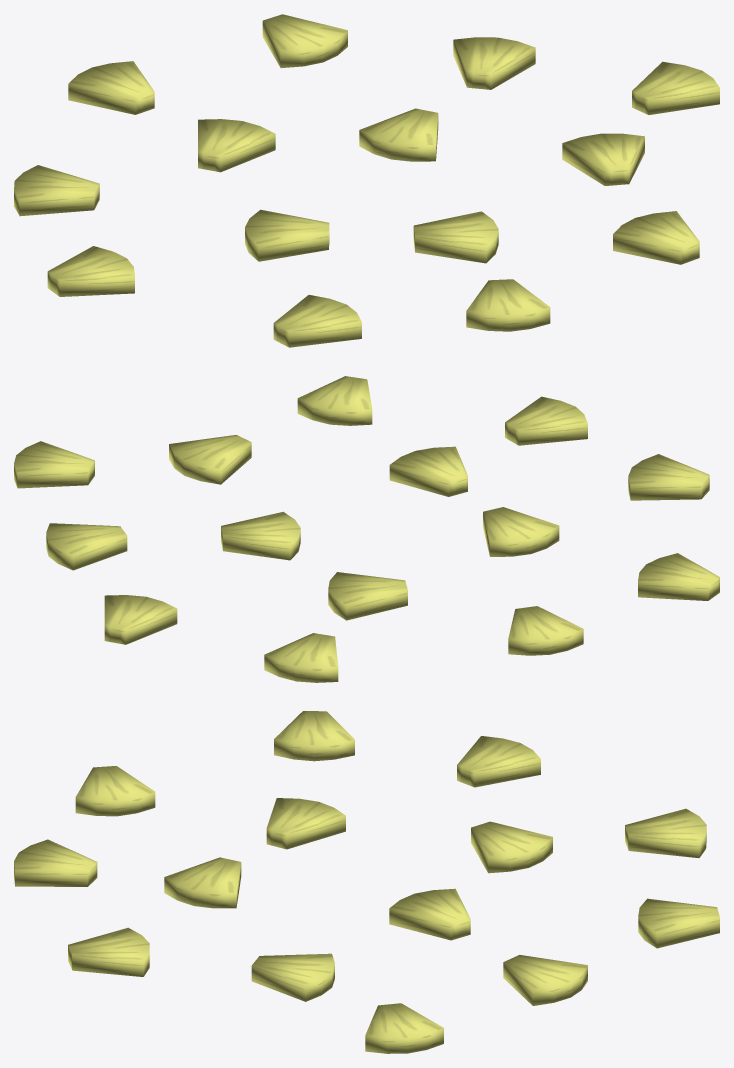
File: pinna_pizza.fbx
3 views of the same model, one above another, from view 1: azimuth 30°, elevation 25°; view 2: azimuth 150°, elevation 25°; view 3: azimuth 270°, elevation 25° (orthographic). The views are drawn at different scales.
Visible parts, largest first — view 1: Pinna_pizza; view 2: Pinna_pizza; view 3: Pinna_pizza.
Part boxes in pixels (<box>): Pinna_pizza: <box>14,14,719,347</box>; Pinna_pizza: <box>14,376,719,682</box>; Pinna_pizza: <box>14,711,719,1053</box>.
Bounding box in the file's own units: 1911 × 43.37 × 1744.
